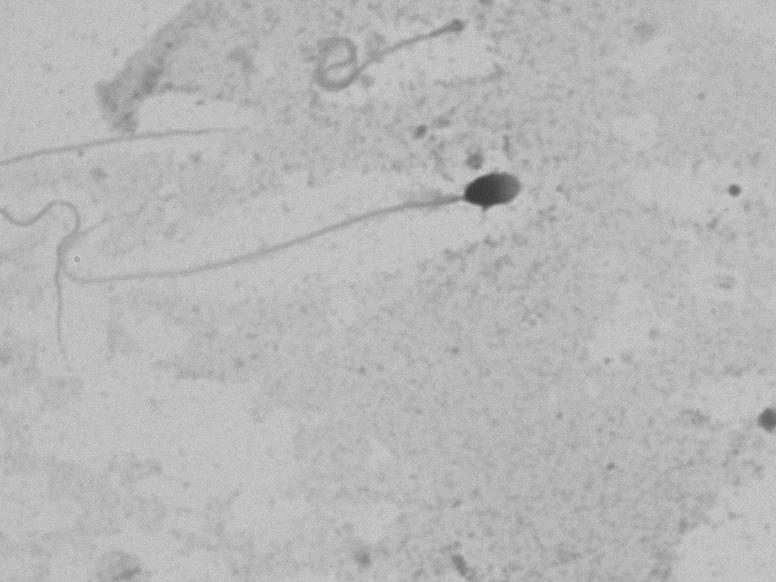Normal: (20, 167, 579, 312)
